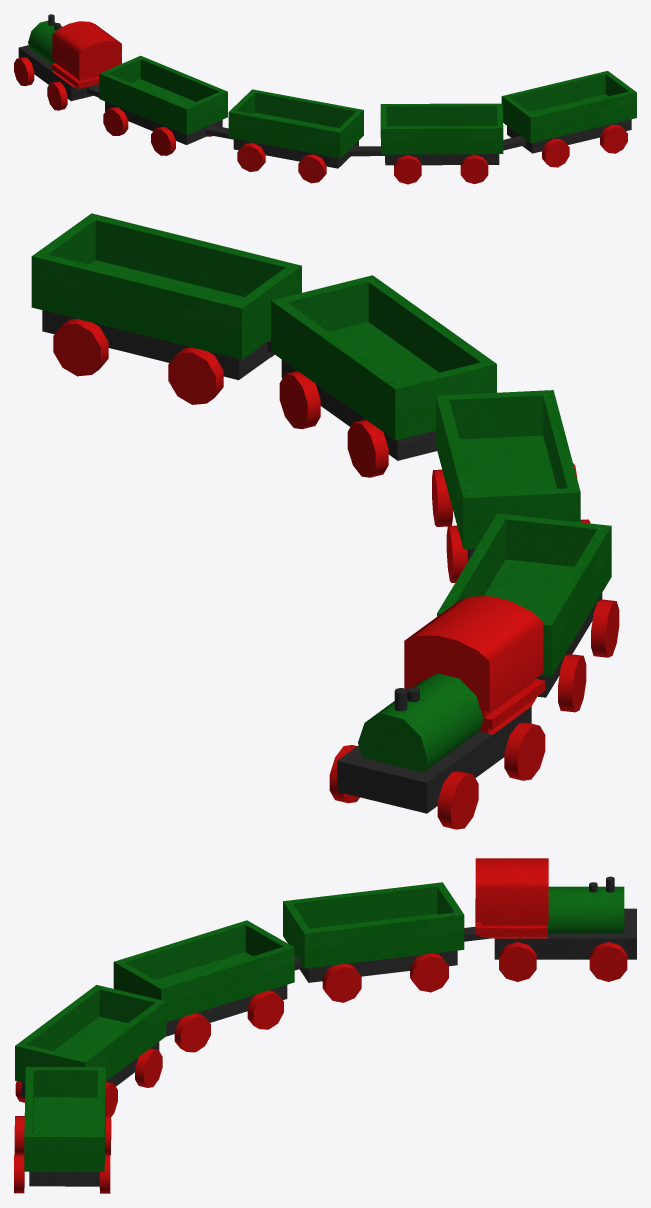
The model's file is train_long.fbx.
The picture shows the model from 3 angles, top to bottom: view 1: azimuth 30°, elevation 25°; view 2: azimuth 150°, elevation 25°; view 3: azimuth 270°, elevation 25°; orthographic projection. The views are drawn at different scales.
Visible parts, largest first — view 1: polySurface65; view 2: polySurface65; view 3: polySurface65.
Part boxes in pixels (left/top/right/bottom): polySurface65: left=14, top=14, right=636, bottom=184; polySurface65: left=31, top=213, right=619, bottom=829; polySurface65: left=14, top=858, right=636, bottom=1193.
Bounding box in the file's own units: 61.44 × 10.47 × 60.66.
